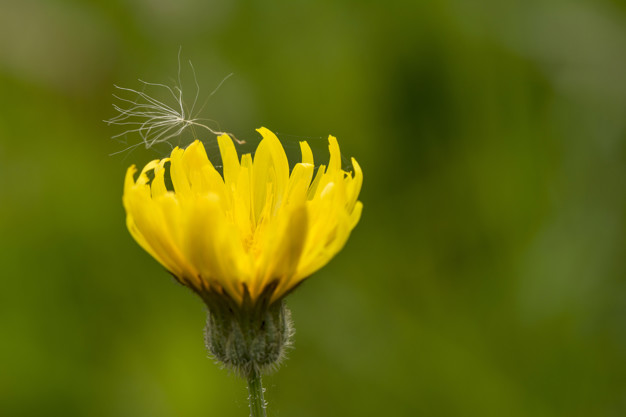dandelion: (139, 155, 352, 285)
